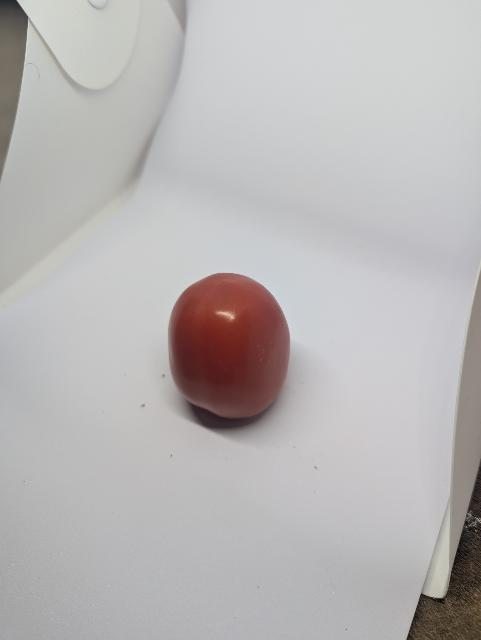red: (166, 268, 295, 421)
